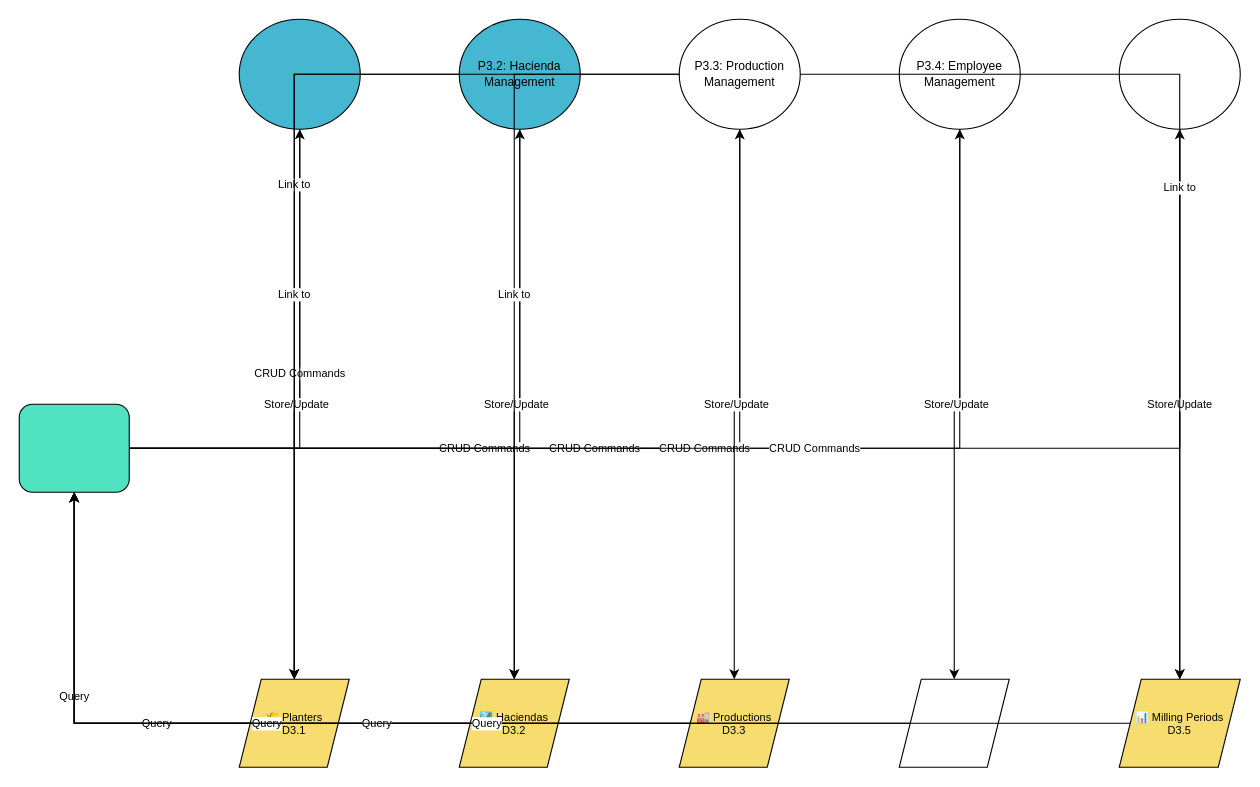
The diagram is 1260 pixels wide and 787 high, and some of its shapes have lost their labels. Here are the shapes that lost their labels. From the top down, the box of each, then its label:
(238, 18, 360, 129): P3.1: Planter Management
(1118, 18, 1240, 129): P3.5: Milling Period Management
(18, 403, 129, 492): 👤 User
(898, 678, 1009, 767): 👥 Employees D3.4
